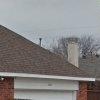Chimney: (55, 32, 94, 72)
